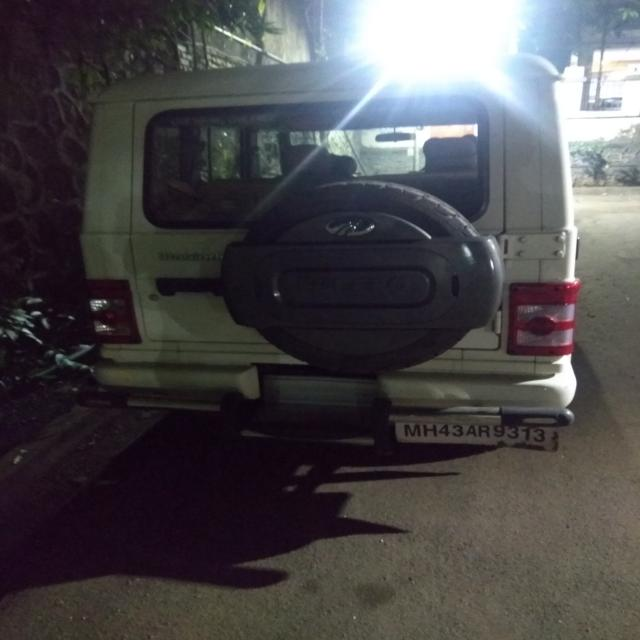Number-Plate: (397, 421, 551, 449)
